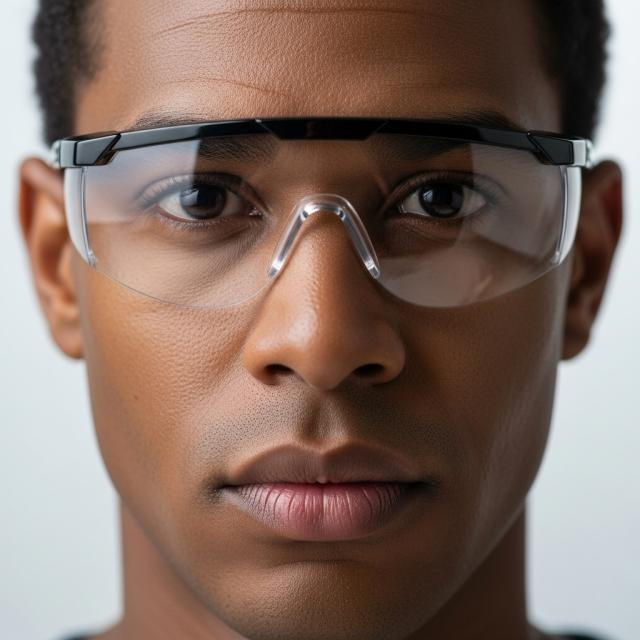oculos-epi: (53, 118, 589, 308)
